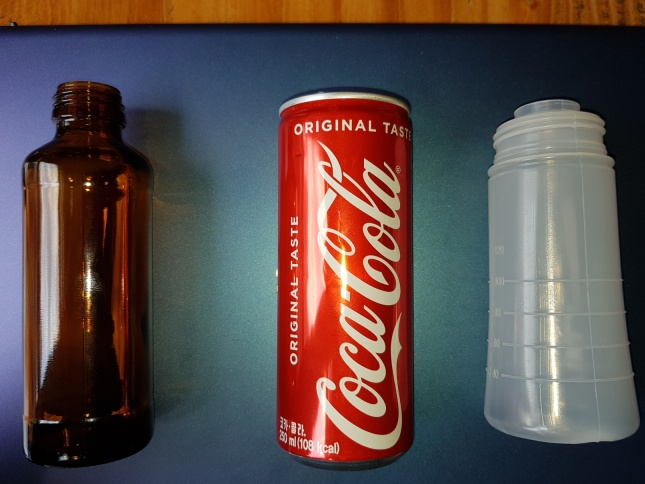Can: (272, 88, 419, 474)
Glass: (17, 79, 156, 472)
Plastic: (478, 91, 641, 450)
